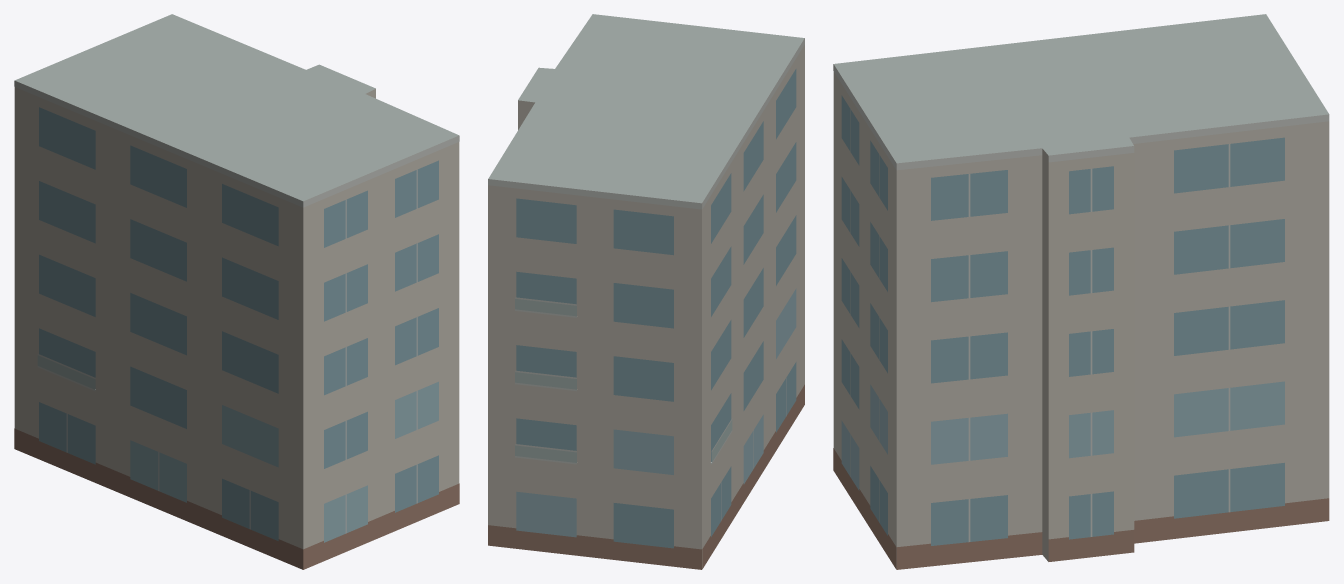
The model's file is survey-upis-32713768.glb.
3 views of the same model, side by side, from view 1: azimuth 30°, elevation 25°; view 2: azimuth 150°, elevation 25°; view 3: azimuth 270°, elevation 25° (orthographic). The views are drawn at different scales.
Parts seen in each view (by area): view 1: survey-upis-32713768.tmp; view 2: survey-upis-32713768.tmp; view 3: survey-upis-32713768.tmp.
Boxes of the visible parts, left/top/right/bottom form: survey-upis-32713768.tmp: left=14, top=14, right=459, bottom=569; survey-upis-32713768.tmp: left=488, top=14, right=804, bottom=569; survey-upis-32713768.tmp: left=833, top=14, right=1329, bottom=569.
Bounding box in the file's own units: 11.28 × 14.3 × 15.82.
